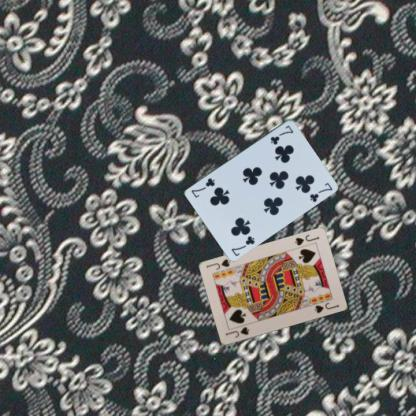7c: (268, 122, 295, 146), (229, 233, 256, 257)
Js: (222, 324, 251, 339), (292, 232, 320, 246)
